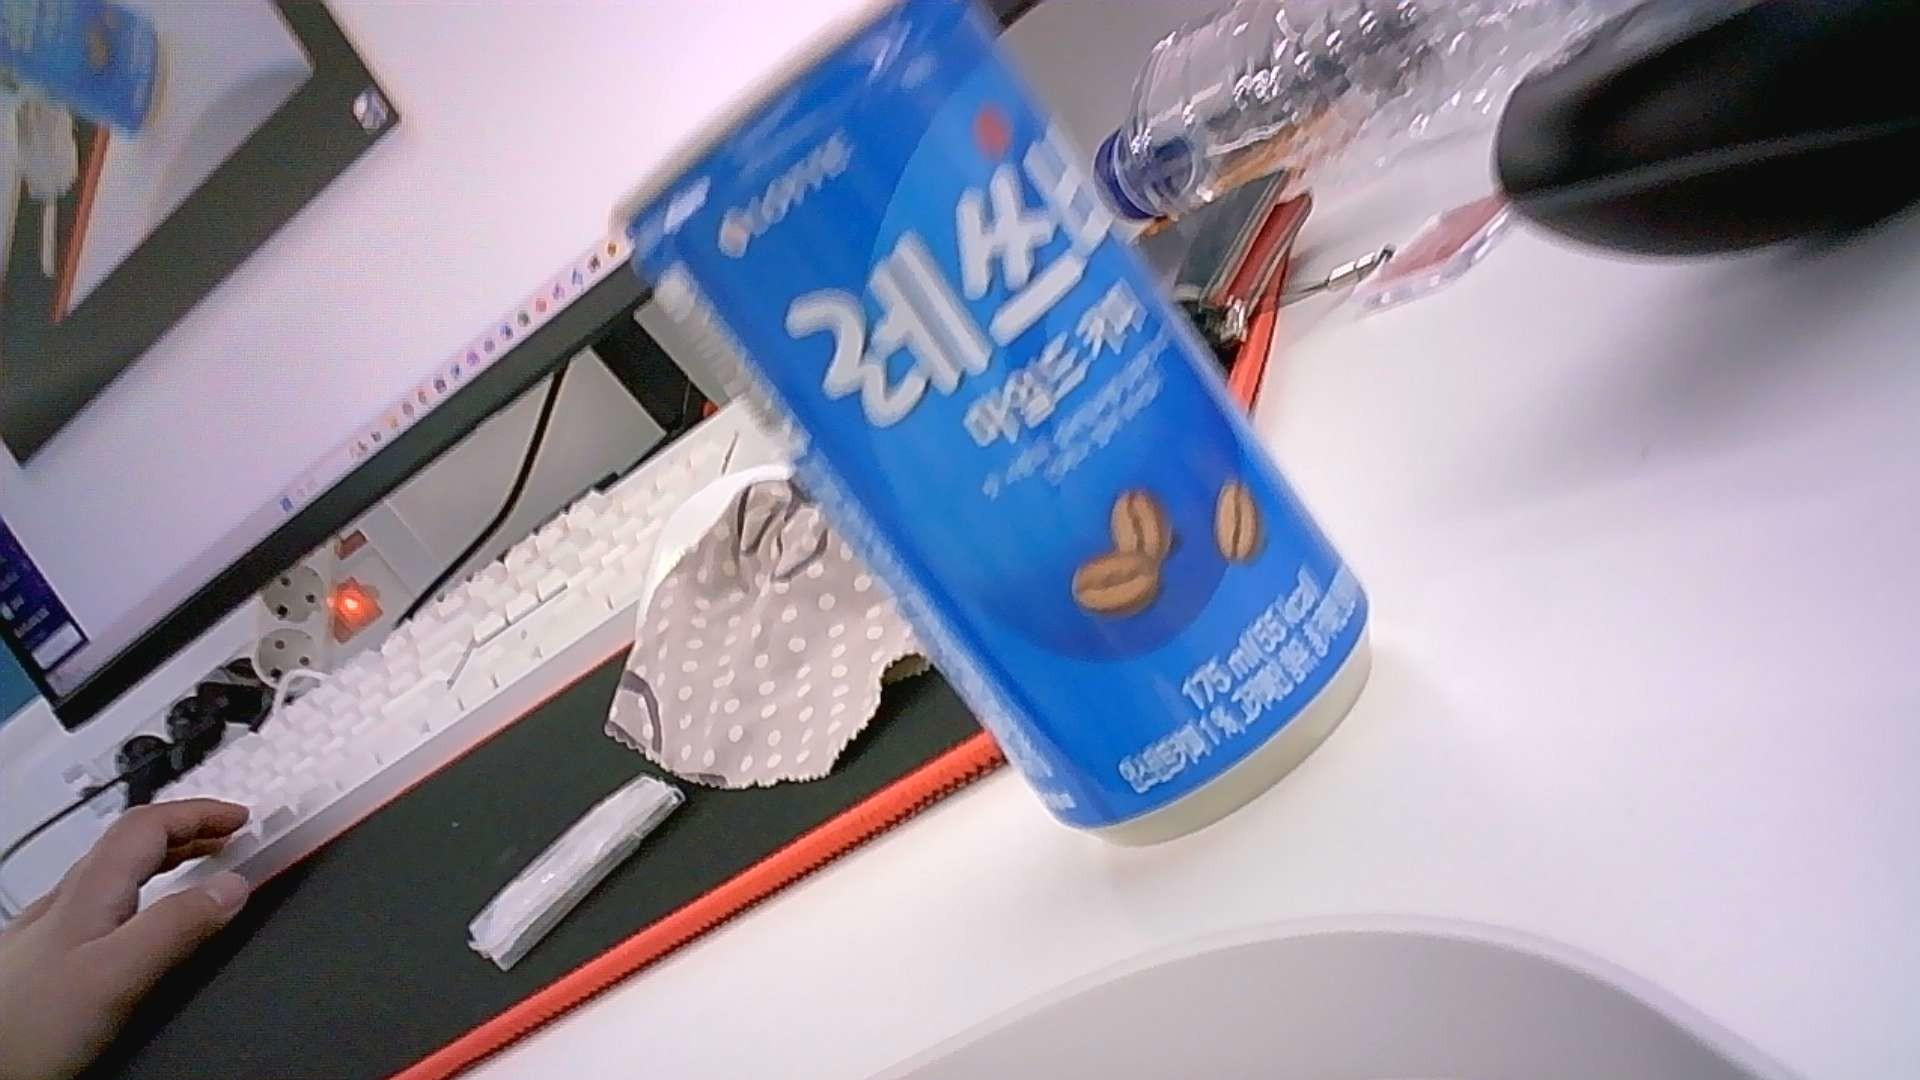letsbe: (605, 0, 1373, 851)
